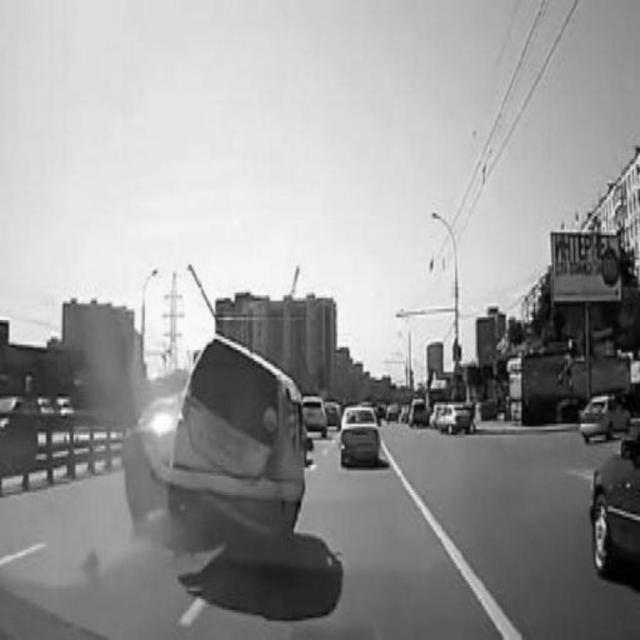accident: (135, 333, 312, 554)
vehicle: (335, 400, 382, 474)
